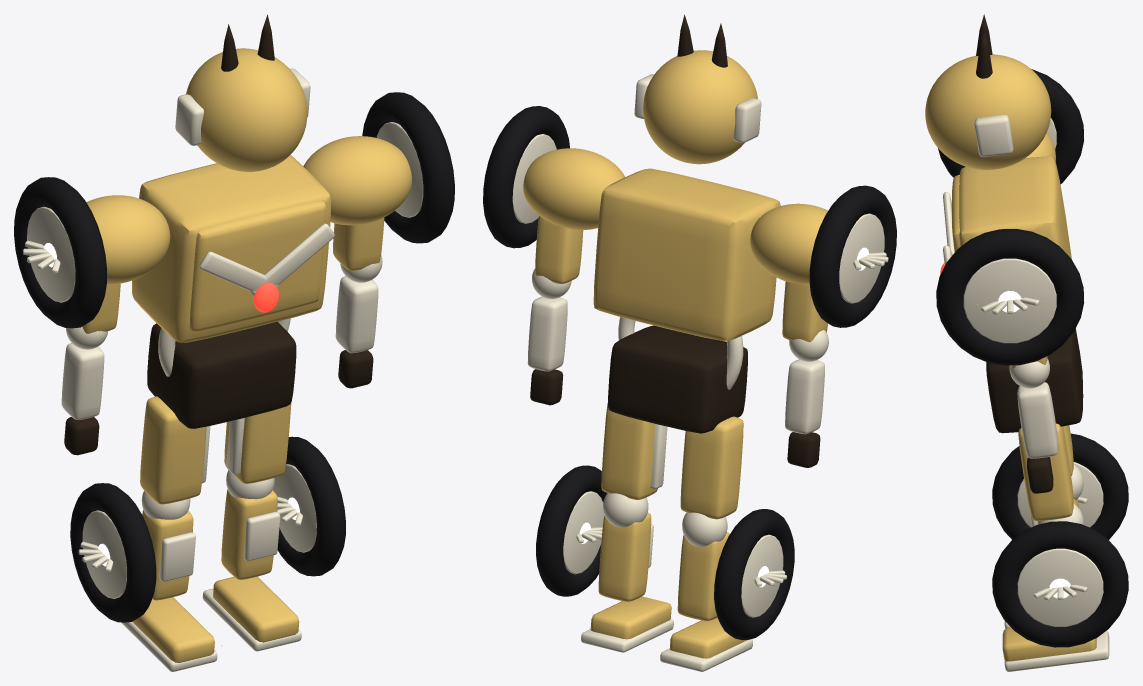
File: tx-aureate.glb
3 renders of one model, left to right at view 1: azimuth 30°, elevation 25°; view 2: azimuth 150°, elevation 25°; view 3: azimuth 270°, elevation 25°, orthographic. The views are drawn at different scales.
Visible parts, largest first — view 1: torso, pelvis, helm, chest, SpinShL_tire, paulR, SpinShR_tire, SpinCfL_tire, thighL, paulL, SpinCfR_tire, footR (+26 smaller); view 2: torso, pelvis, helm, SpinShL_tire, paulR, SpinCfL_tire, SpinShR_tire, thighL, SpinCfR_tire, paulL, thighR, shinR (+22 smaller); view 3: helm, SpinShR_tire, SpinCfR_tire, torso, SpinShR_rim, SpinCfL_tire, SpinCfR_rim, pelvis, SpinShL_tire, thighR, farmR, SpinCfL_rim (+10 smaller).
Boxes of the visible parts, box(x1,y1,x2,y2) form: torso: box(132, 155, 331, 342); pelvis: box(147, 321, 296, 428); helm: box(186, 48, 307, 171); chest: box(189, 201, 326, 331); SpinShL_tire: box(14, 177, 106, 328); paulR: box(303, 136, 411, 225); SpinShR_tire: box(362, 92, 454, 243); SpinCfL_tire: box(70, 483, 156, 622); thighL: box(140, 396, 206, 504); paulL: box(86, 195, 170, 284); SpinCfR_tire: box(277, 436, 345, 576); footR: box(213, 576, 299, 642); torso: box(593, 168, 780, 341); pelvis: box(608, 325, 747, 433); helm: box(643, 50, 757, 164); SpinShL_tire: box(809, 185, 896, 327); paulR: box(523, 148, 624, 229); SpinCfL_tire: box(714, 509, 794, 640); SpinShR_tire: box(483, 106, 569, 248); thighL: box(680, 416, 743, 519); SpinCfR_tire: box(536, 465, 607, 596); paulL: box(750, 203, 827, 283); thighR: box(601, 403, 657, 499); shinR: box(598, 512, 651, 601); helm: box(925, 54, 1051, 169); SpinShR_tire: box(936, 229, 1084, 365); SpinCfR_tire: box(992, 521, 1128, 647); torso: box(959, 156, 1071, 259); SpinShR_rim: box(963, 258, 1056, 343); SpinCfL_tire: box(992, 433, 1128, 539); SpinCfR_rim: box(1017, 548, 1103, 626); pelvis: box(986, 328, 1083, 433); SpinShL_tire: box(938, 69, 1083, 184); thighR: box(1018, 423, 1073, 520); farmR: box(1017, 382, 1058, 458); SpinCfL_rim: box(1017, 462, 1103, 527).
Size of the model in its own units: 1.57 by 2.35 by 0.6988.
